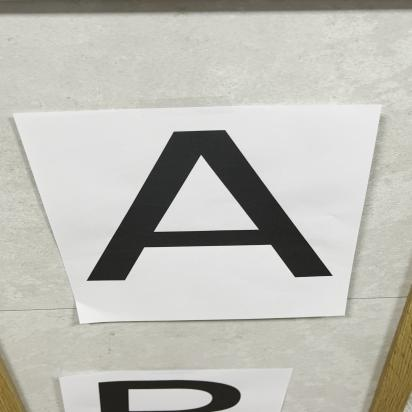seat: (76, 114, 351, 318)
